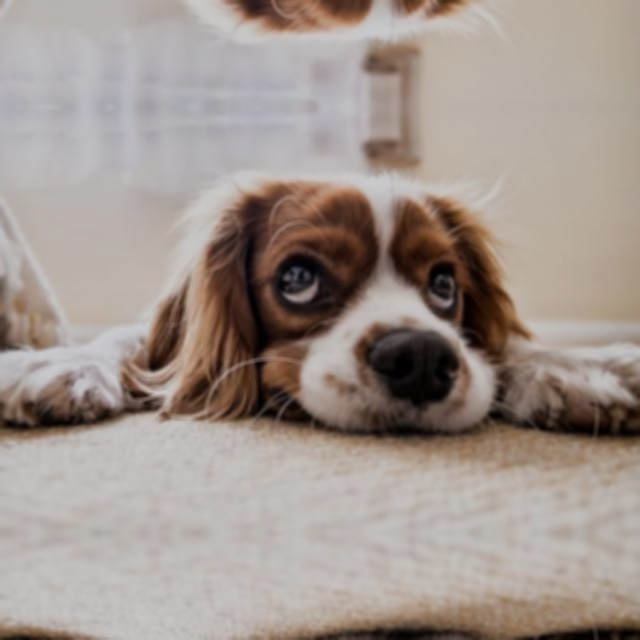dog: (149, 141, 535, 449), (149, 0, 535, 71), (149, 616, 535, 640)
